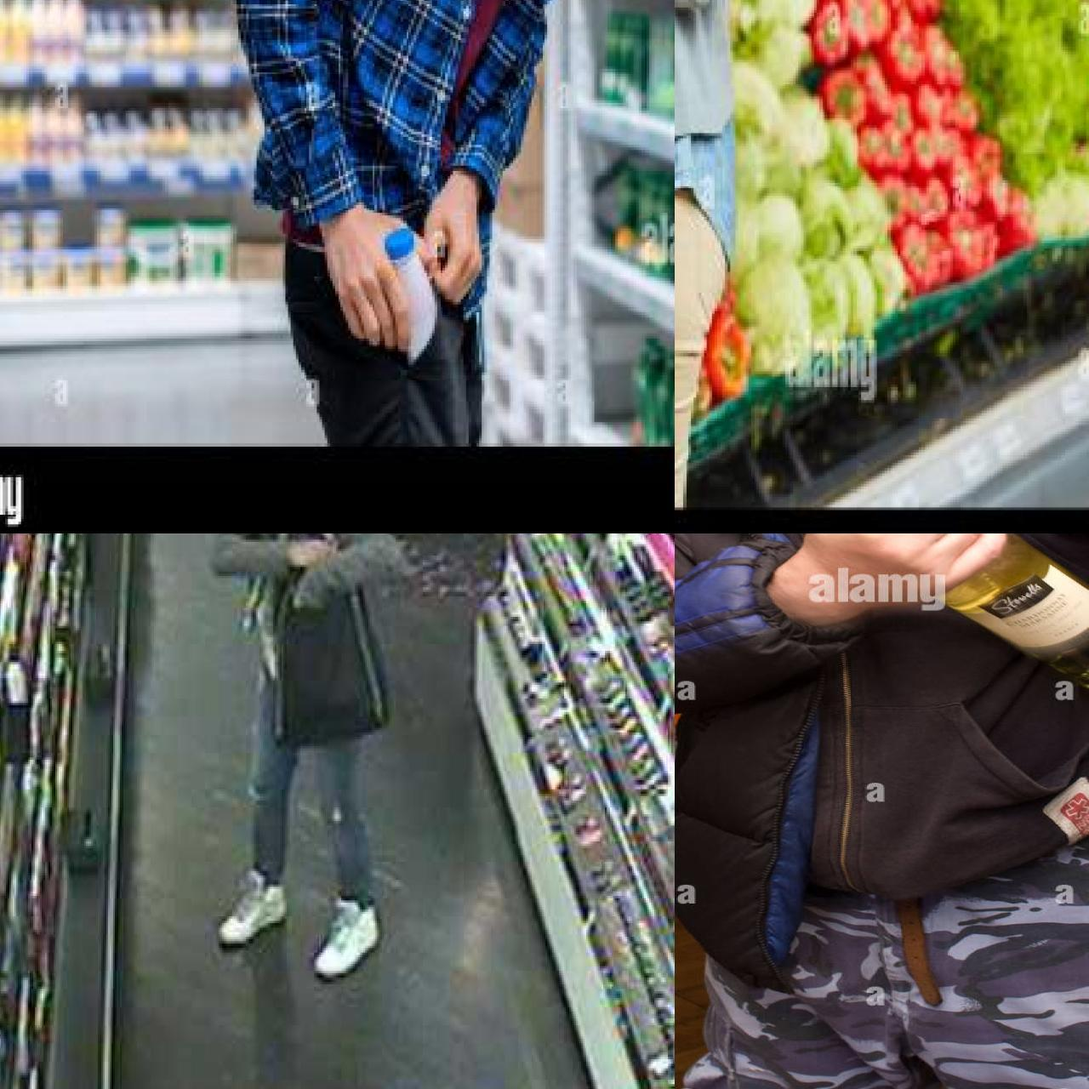shoplifting: (210, 146, 681, 454)
